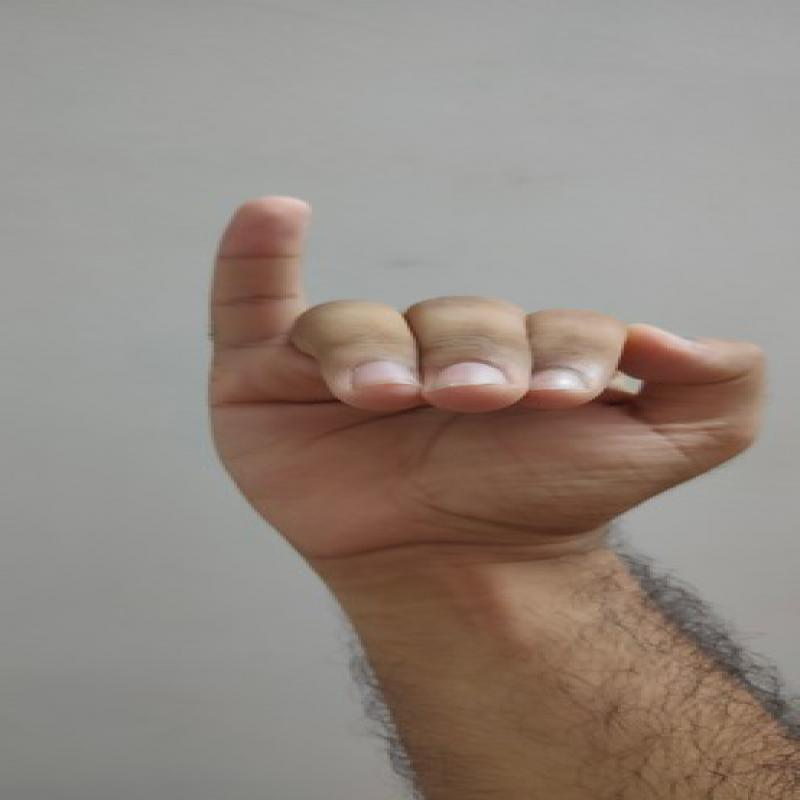Kartharee Mukham: (183, 182, 779, 566)
